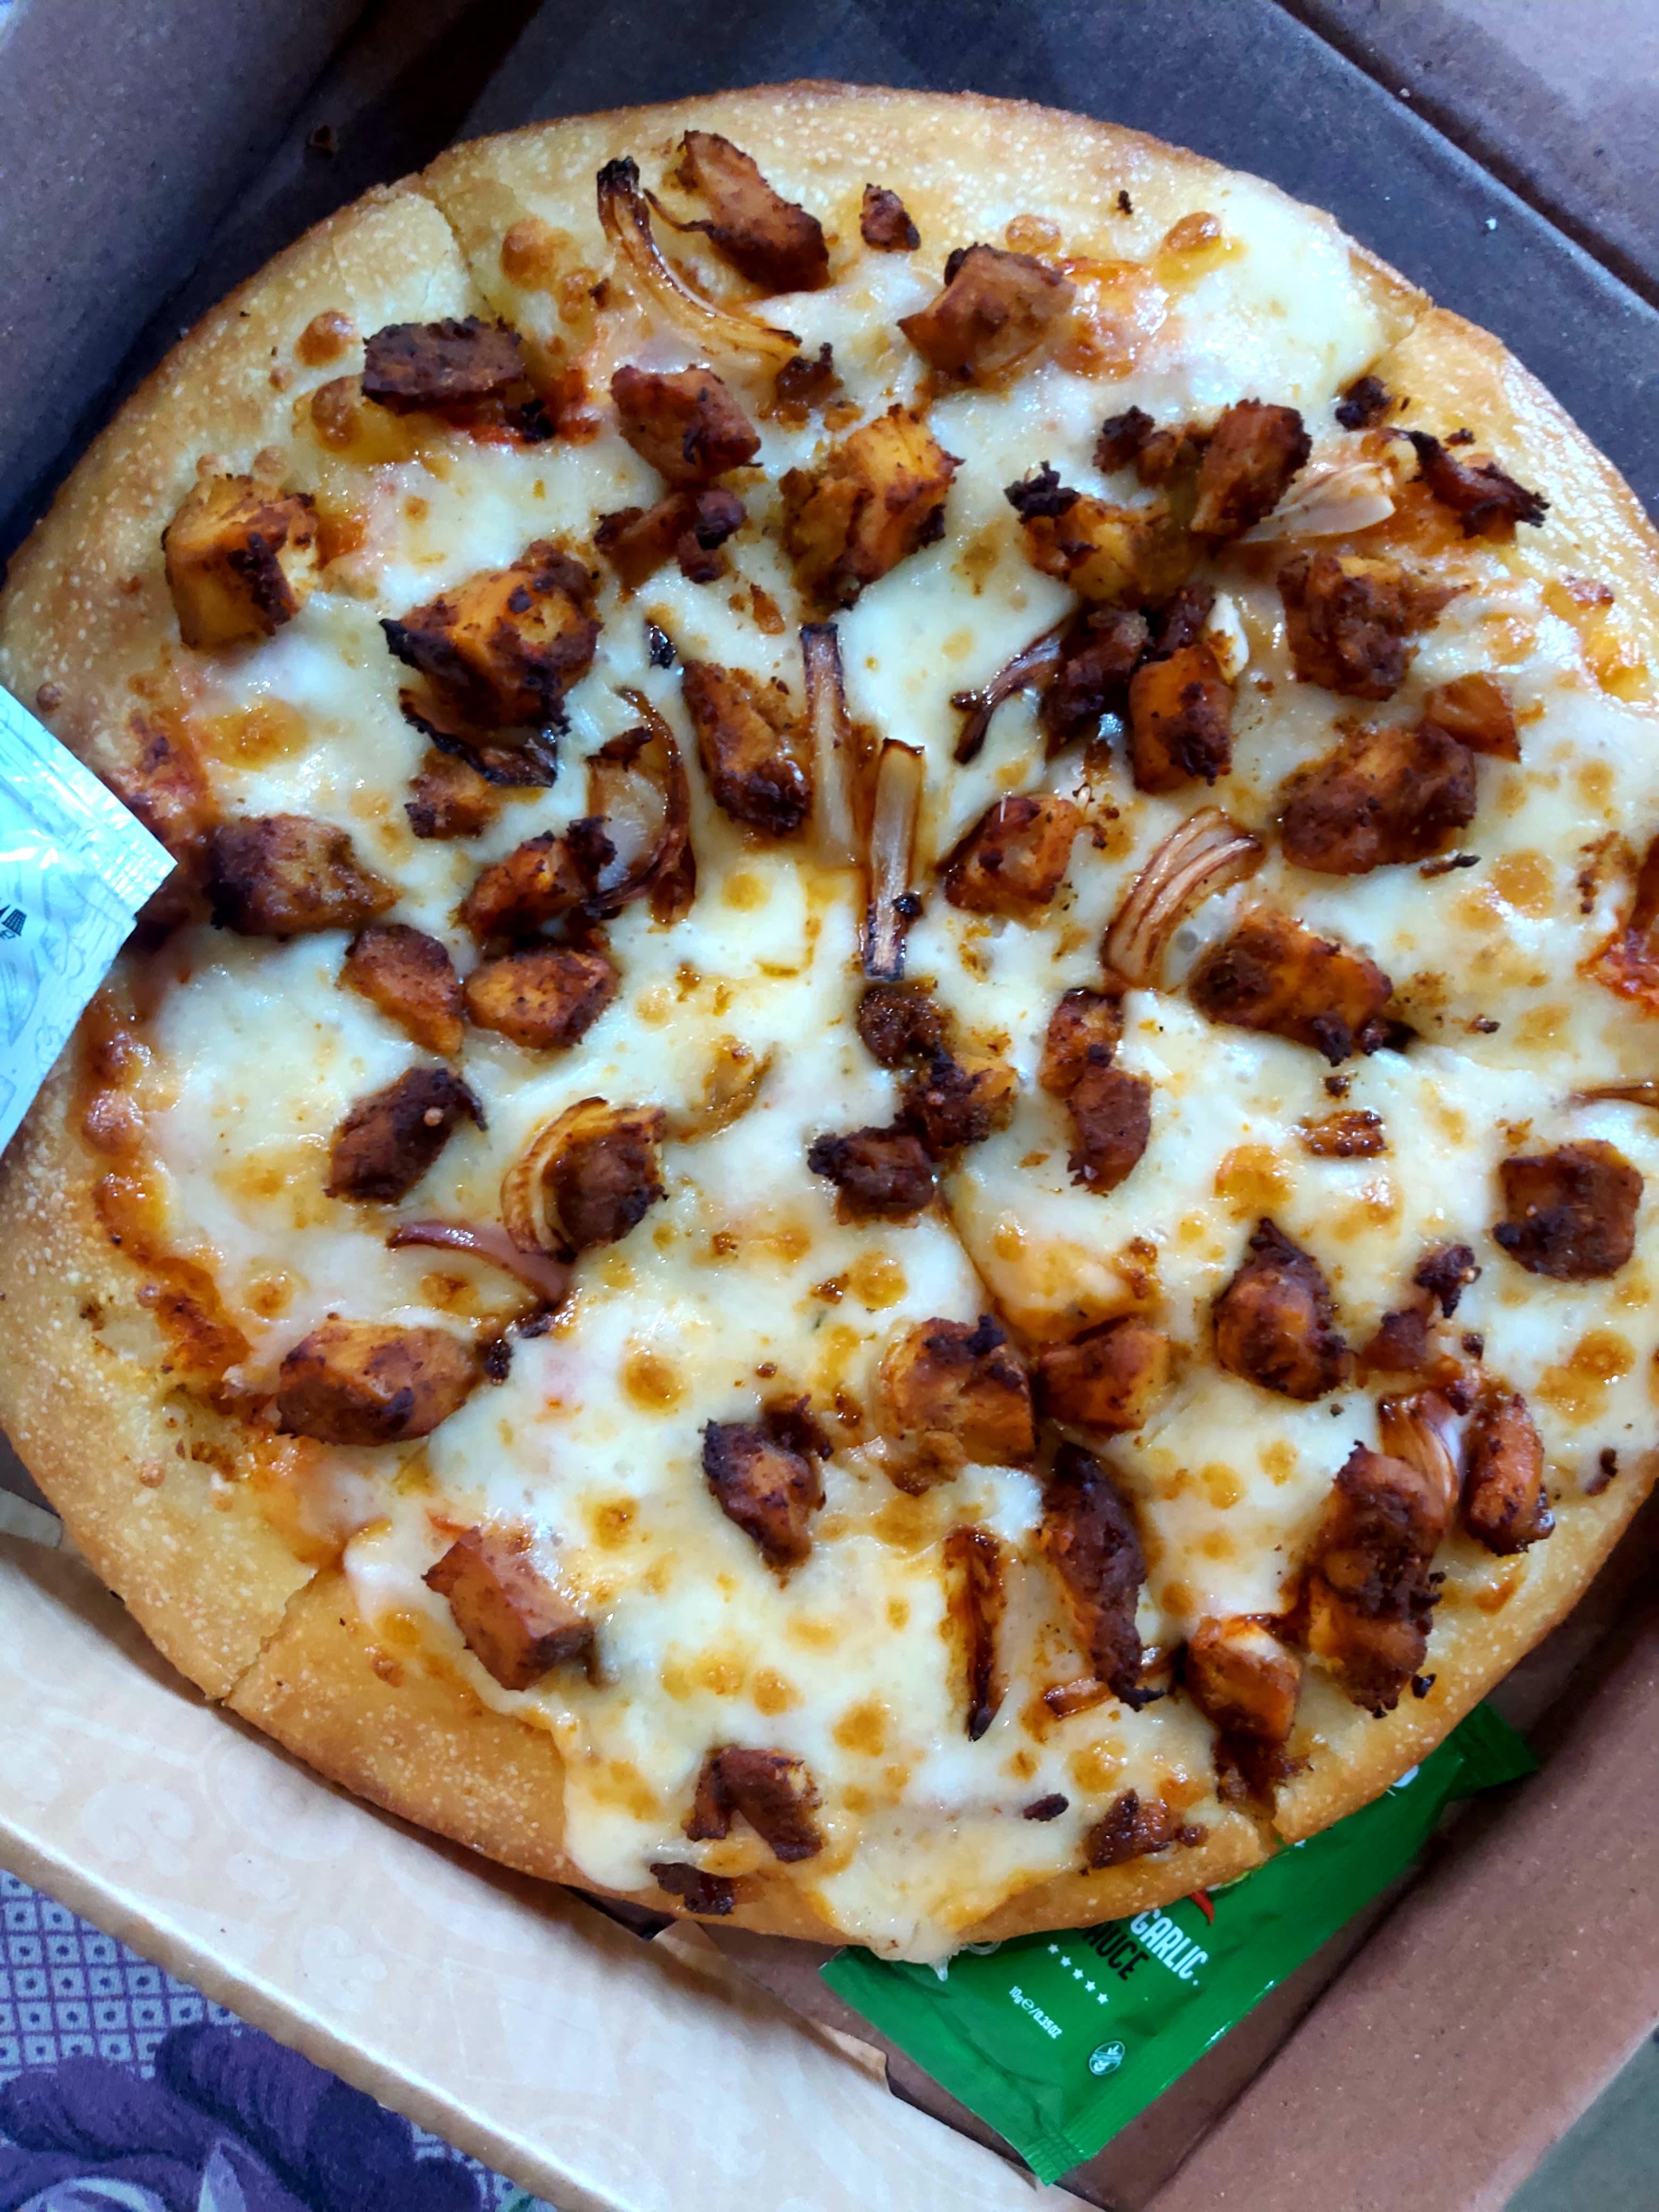non-mango: (3, 78, 1656, 1966)
